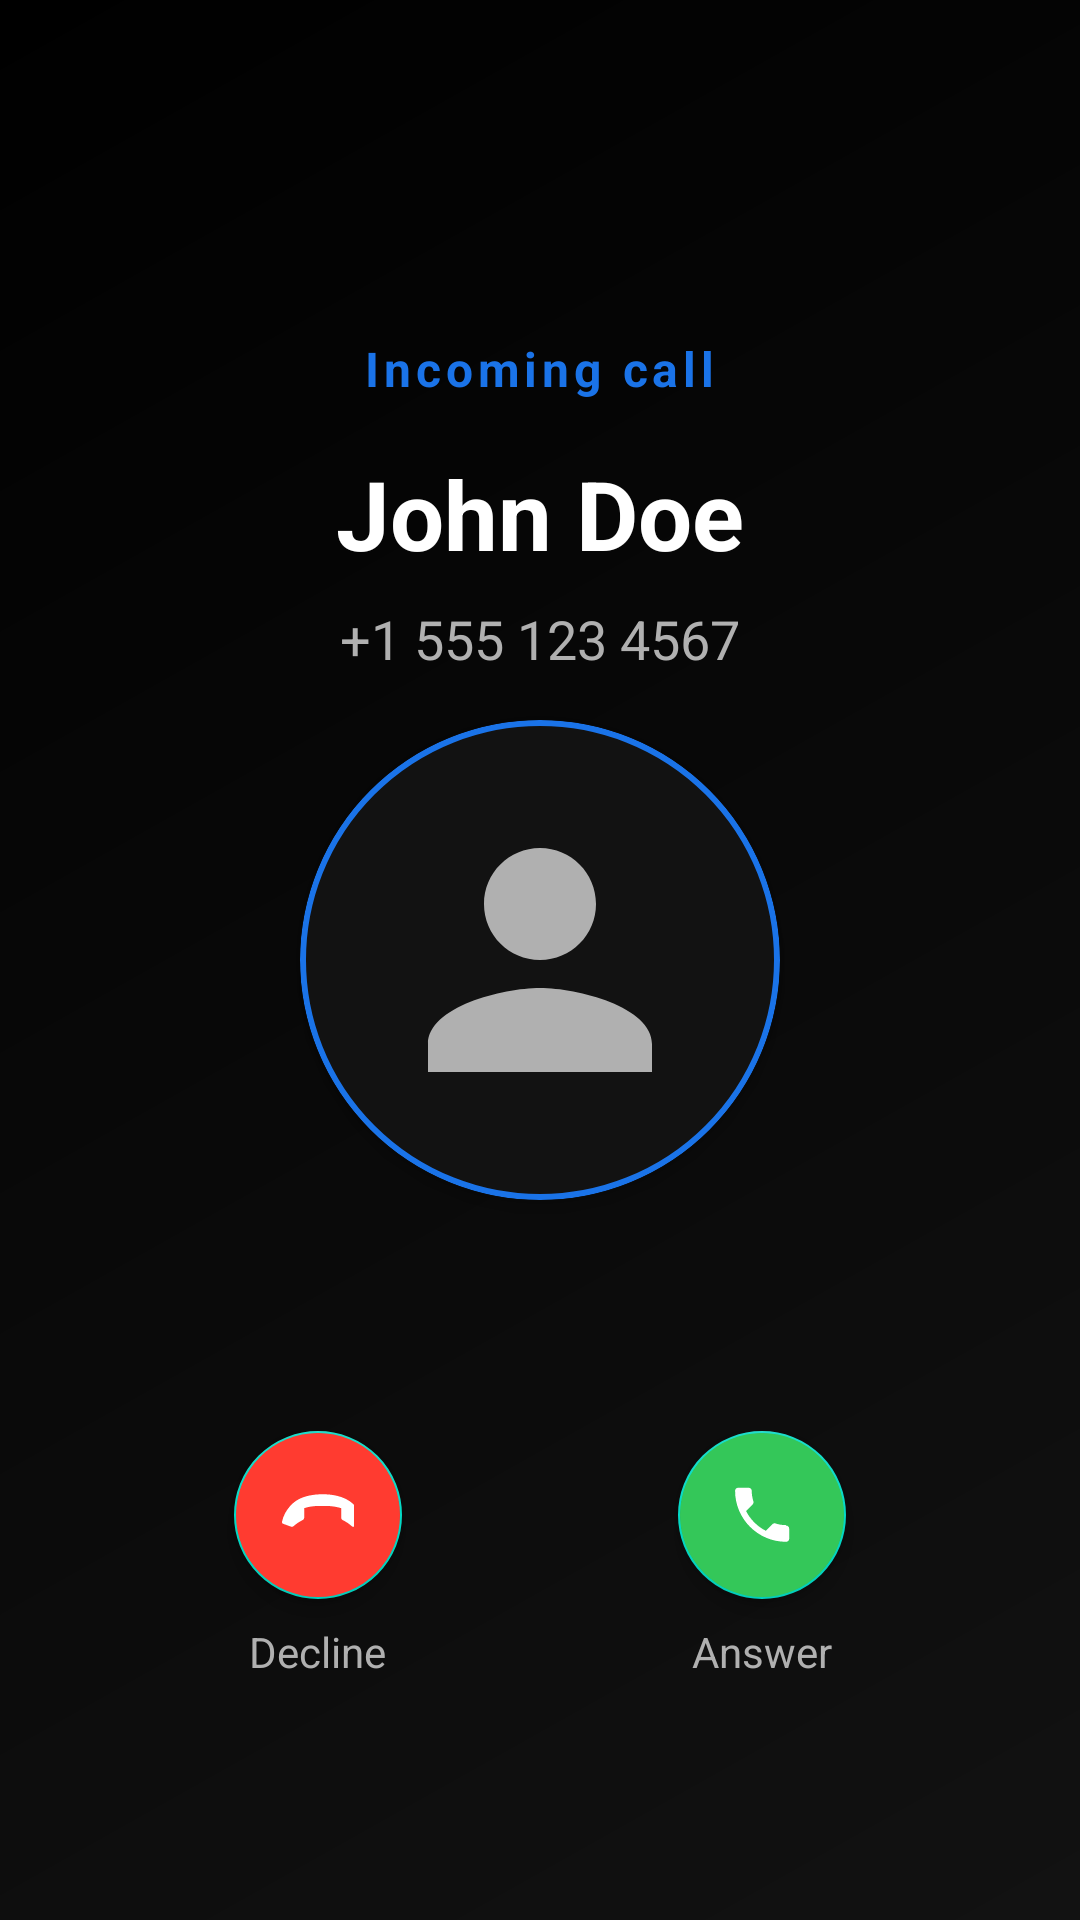

Locate icon controls on the screen. Image size 1080×1920, boxes as (x1, y1, x2, y2).
call: (678, 1431, 846, 1599)
call end: (234, 1431, 402, 1599)
